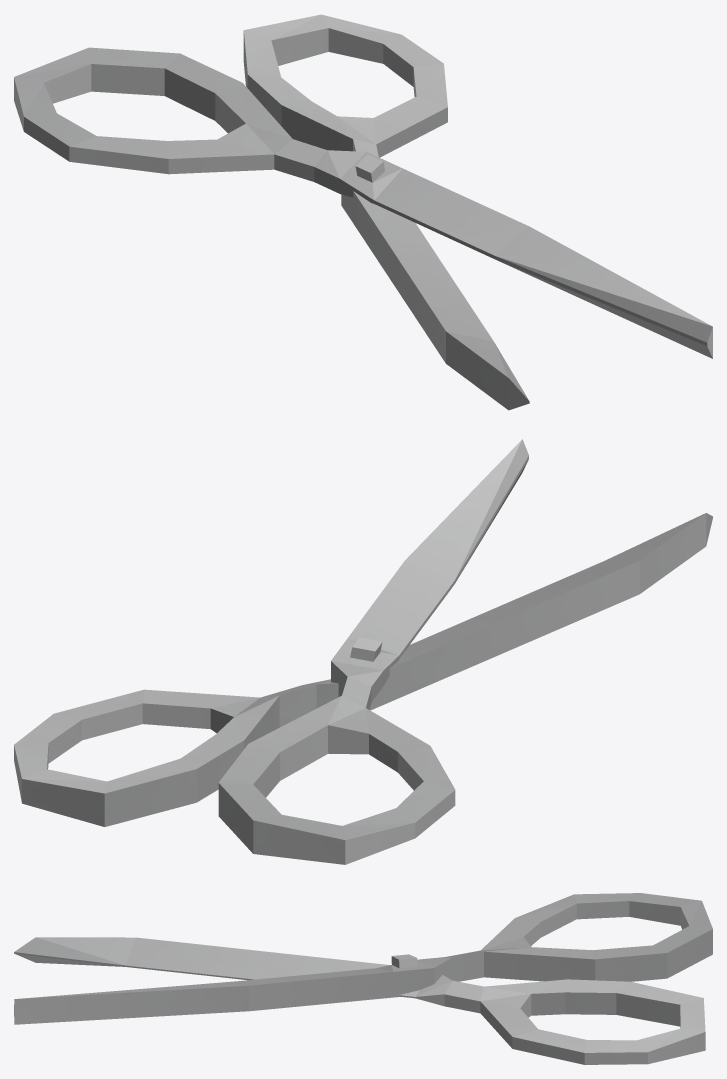
The model's file is scissors.fbx.
3 views of the same model, one above another, from view 1: azimuth 30°, elevation 25°; view 2: azimuth 150°, elevation 25°; view 3: azimuth 270°, elevation 25° (orthographic). The views are drawn at different scales.
Visible parts, largest first — view 1: scissor_blade_right, scissor_blade_left; view 2: scissor_blade_left, scissor_blade_right; view 3: scissor_blade_right, scissor_blade_left.
Boxes of the visible parts, box(x1,y1,x2,y2) form: scissor_blade_right: box(14, 47, 712, 358); scissor_blade_left: box(243, 14, 529, 410); scissor_blade_left: box(14, 513, 712, 826); scissor_blade_right: box(218, 439, 528, 864); scissor_blade_right: box(14, 893, 712, 1024); scissor_blade_left: box(14, 937, 705, 1064).
Size of the model in its own units: 0.0983 by 0.0135 by 0.1958.
